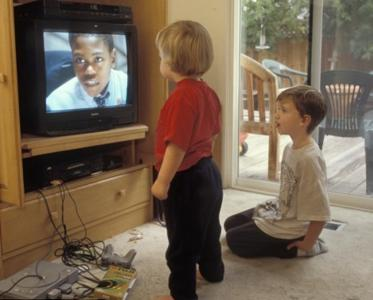person: (151, 20, 227, 300)
